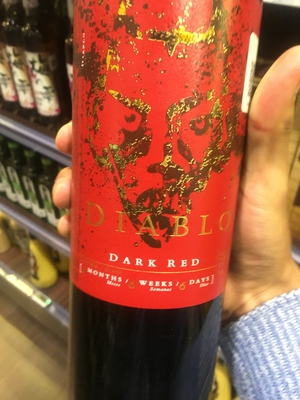diablo dark red: (67, 1, 255, 400)
